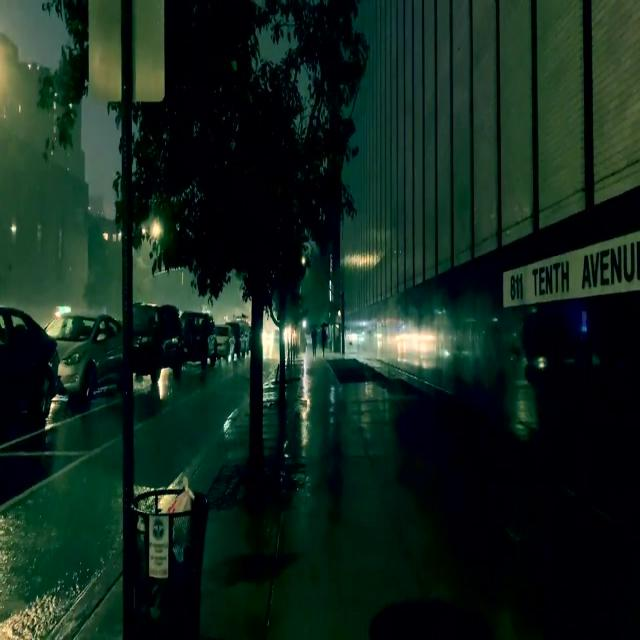Car: (49, 312, 118, 402), (133, 303, 182, 385), (179, 309, 216, 362)
